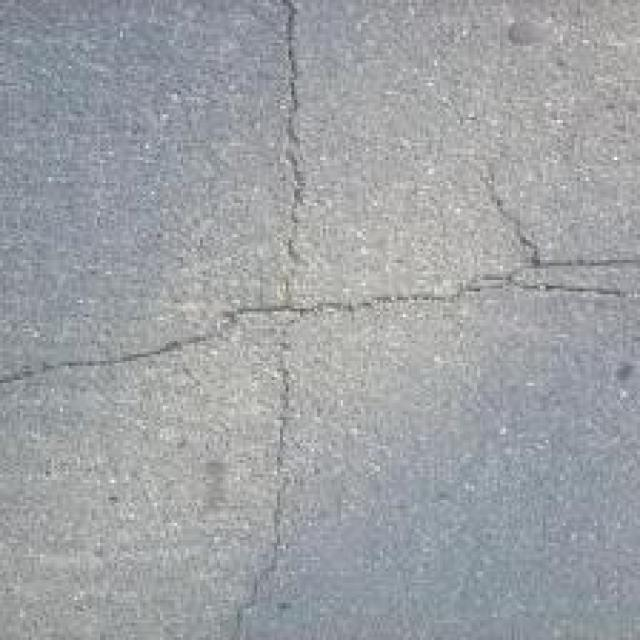crack: (0, 236, 640, 404), (238, 0, 342, 640)
